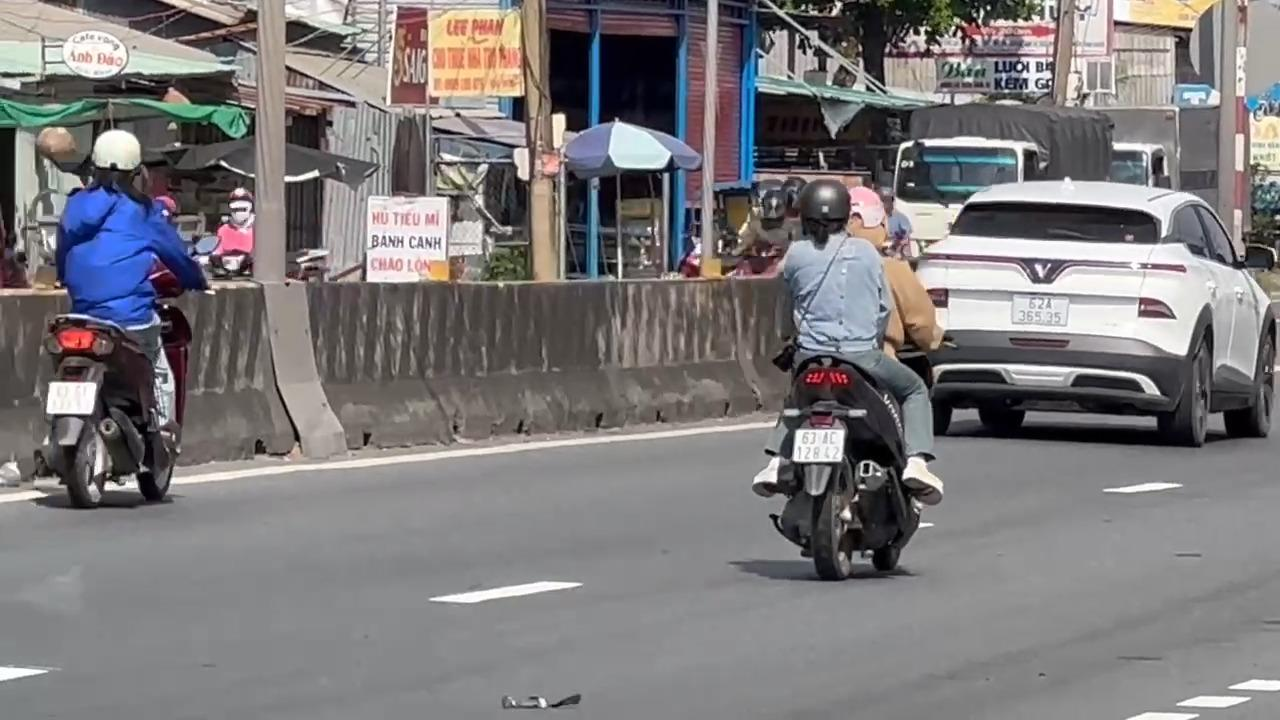bien_so: (791, 426, 845, 464), (1010, 293, 1069, 326), (44, 379, 99, 414)
